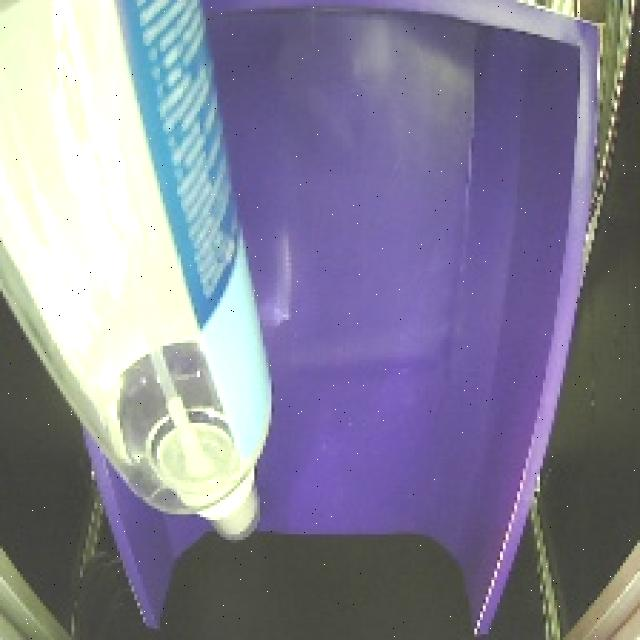plastic: (0, 1, 292, 564)
